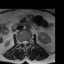CCS_normal: (23, 38, 25, 47)
LFS_normal: (28, 38, 30, 45)
LLS_normal: (25, 38, 28, 45)
RFS_normal: (19, 39, 21, 46)
RLS_normal: (21, 39, 23, 45)
